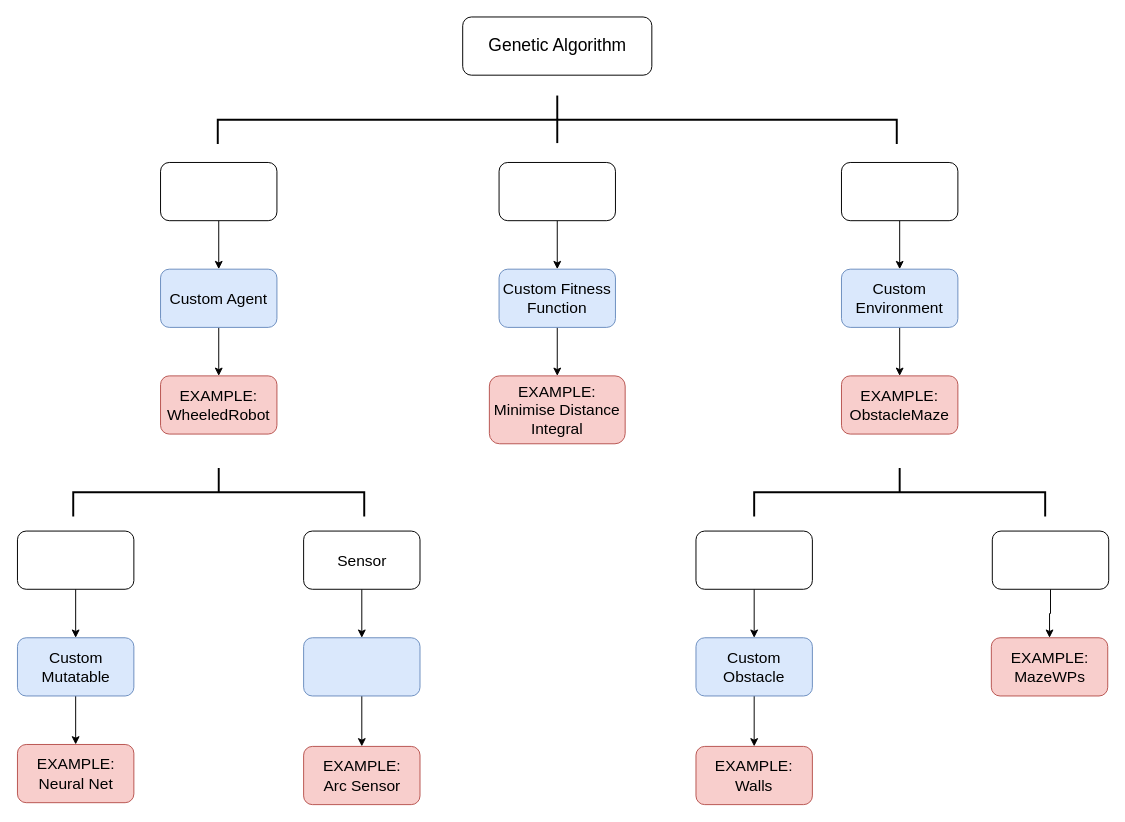
This 1125x822 diagram has some shape labels left out. Each missing label, with the centre of its shape:
Agent: (x=218, y=191)
Custom Sensor: (x=361, y=666)
Environment: (x=899, y=191)
Fitness Function: (x=556, y=191)
Mutatable: (x=75, y=559)
Obstacle: (x=753, y=559)
Waypoints: (x=1050, y=559)
